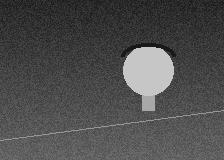no_helmet: (123, 43, 173, 100)
